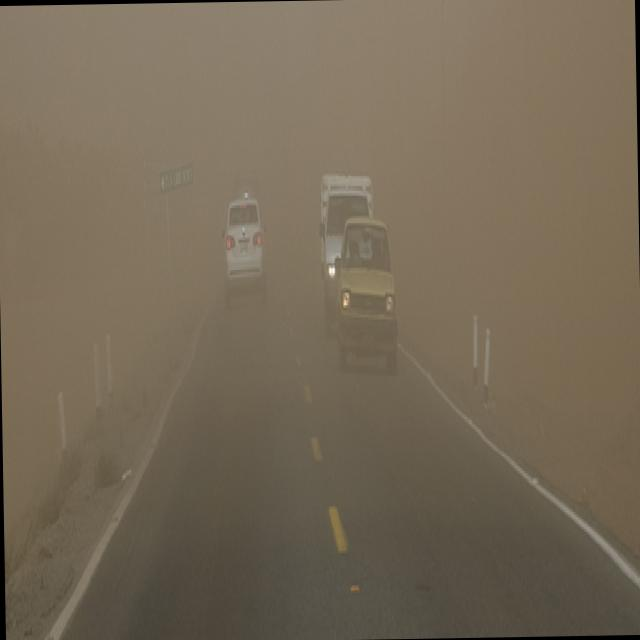car: (335, 219, 396, 359), (319, 170, 376, 315), (220, 193, 270, 310)
